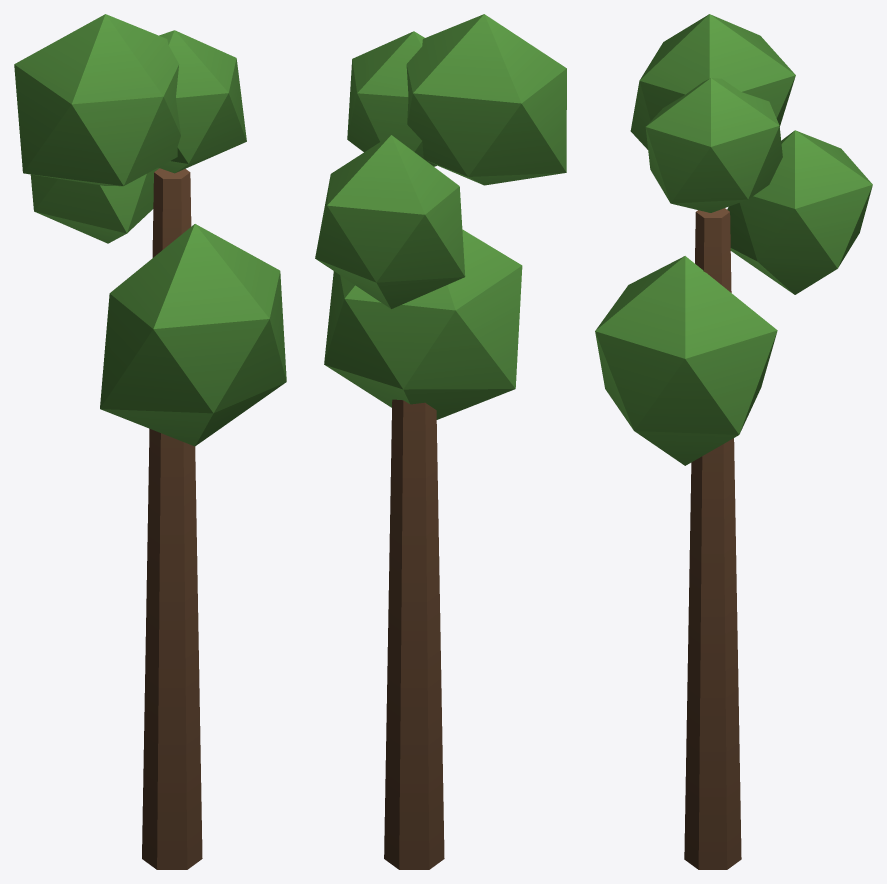
Rendered from tree_M.glb.
3 views of the same model, side by side, from view 1: azimuth 30°, elevation 25°; view 2: azimuth 150°, elevation 25°; view 3: azimuth 270°, elevation 25° (orthographic). The views are drawn at different scales.
Visible parts, largest first — view 1: tree_M; view 2: tree_M; view 3: tree_M.
Part boxes in pixels (box(x1,y1,x2,y2)): tree_M: box(14, 14, 286, 869); tree_M: box(315, 14, 566, 869); tree_M: box(595, 14, 872, 869).
Size of the model in its own units: 0.7451 by 2.51 by 0.7778.
Materials: 1 (1 with a texture image).
